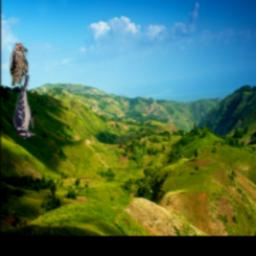Woodpecker: (13, 76, 36, 140), (9, 44, 28, 87)
